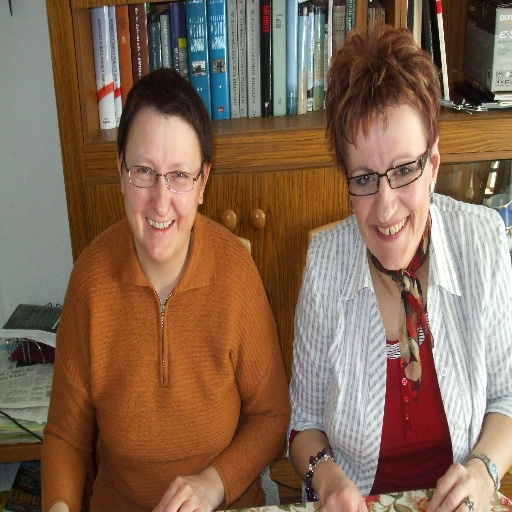hand: (426, 462, 494, 511), (150, 473, 214, 511), (319, 473, 366, 511)
